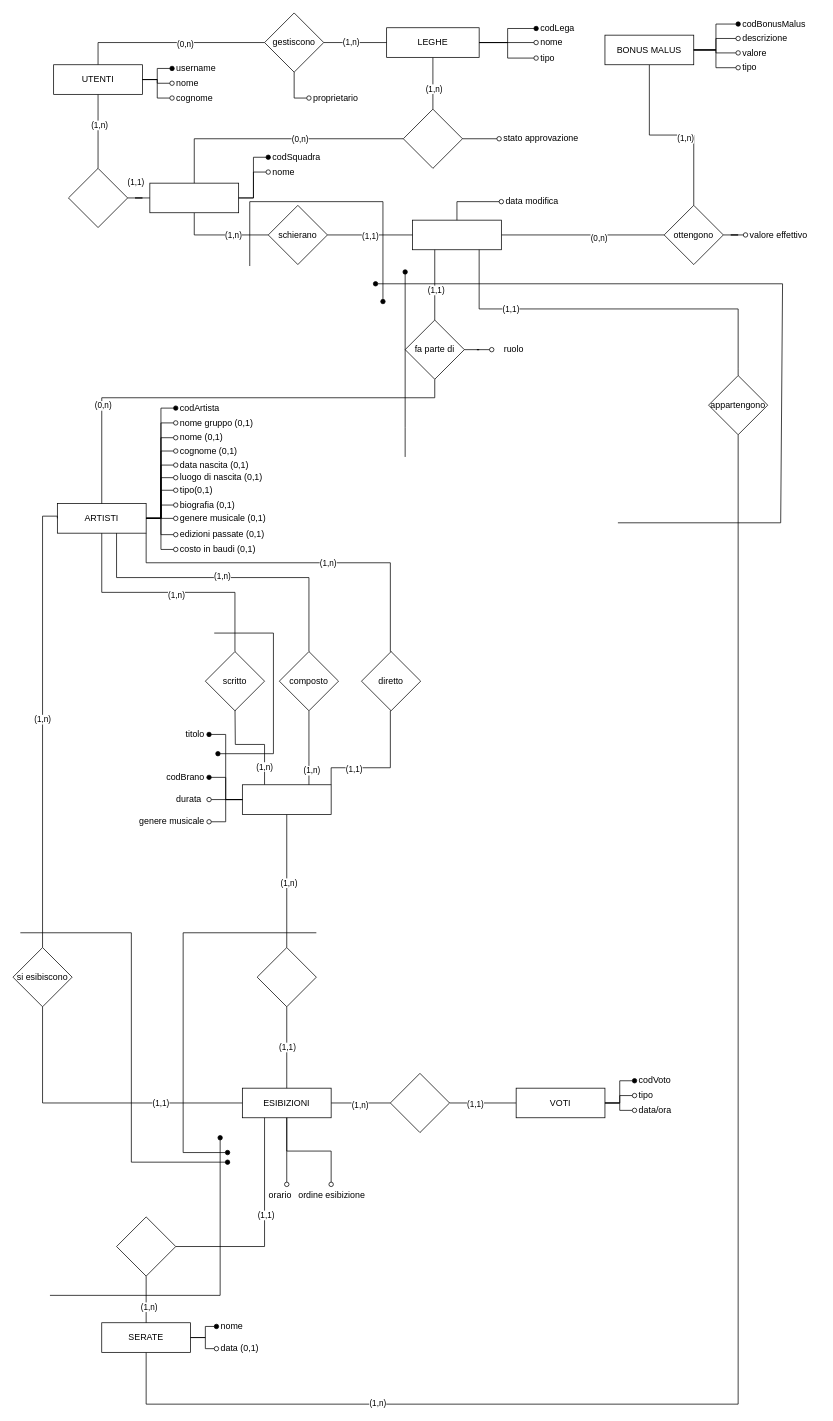
The diagram is 833 pixels wide and 1421 high, and some of its shapes have lost their labels. The shapes that lost their labels are listed below. From the top down, each one's box as (x1, y1, x2, y2) in pixels, then its label:
(403, 108, 462, 168): partecipano
(68, 168, 128, 228): possiedono
(149, 182, 239, 213): SQUADRE
(412, 219, 501, 250): FORMAZIONI
(242, 784, 331, 814): BRANI
(256, 947, 316, 1007): vengono eseguiti
(390, 1073, 450, 1133): sono giudicate
(116, 1216, 176, 1276): si svolge
